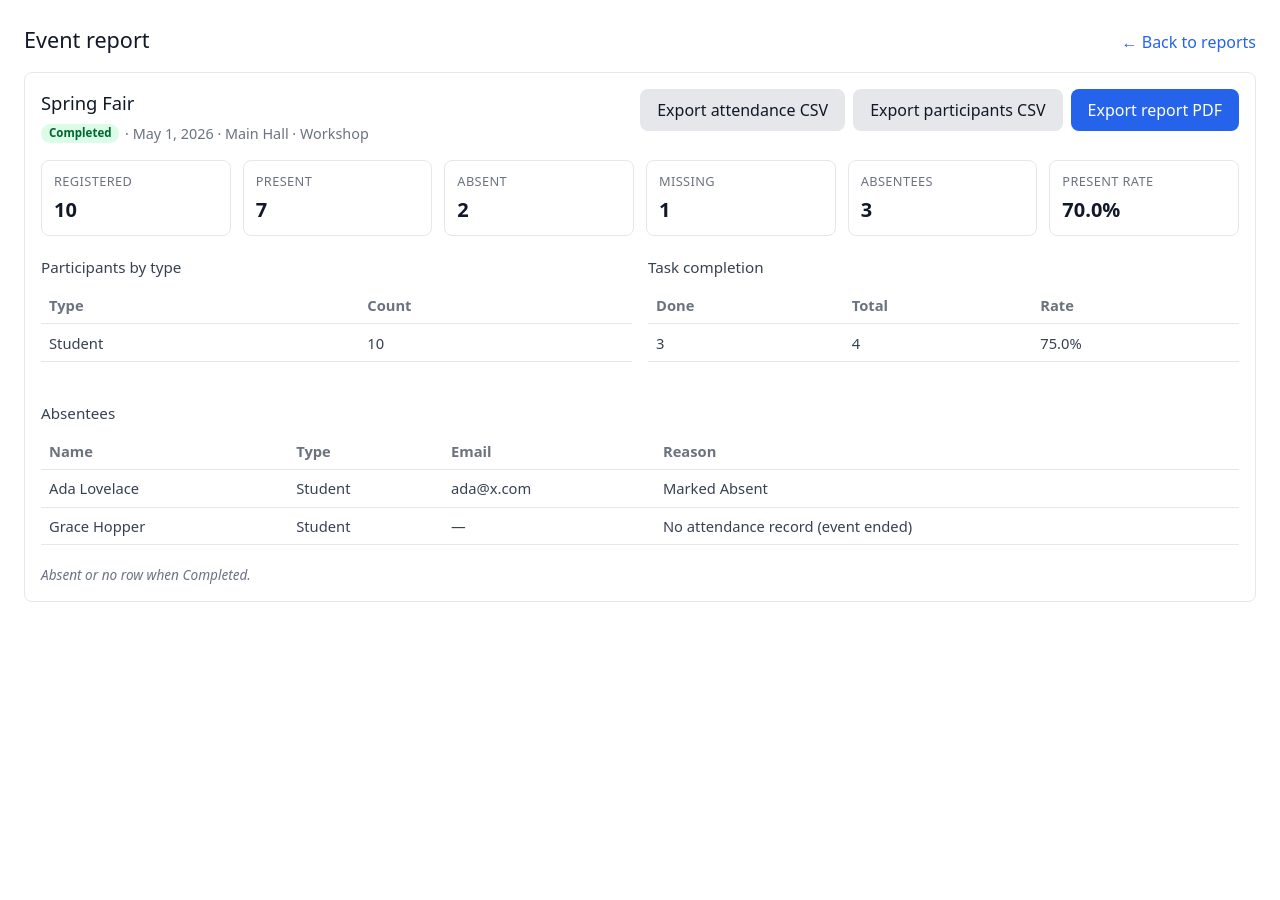
EventReportView › surfaces export failures
What coordinates should you click on to do the following:
click the button with test id "export-report-pdf"
I would click on:
 (1155, 110)
Its box is [1070, 89, 1239, 131].
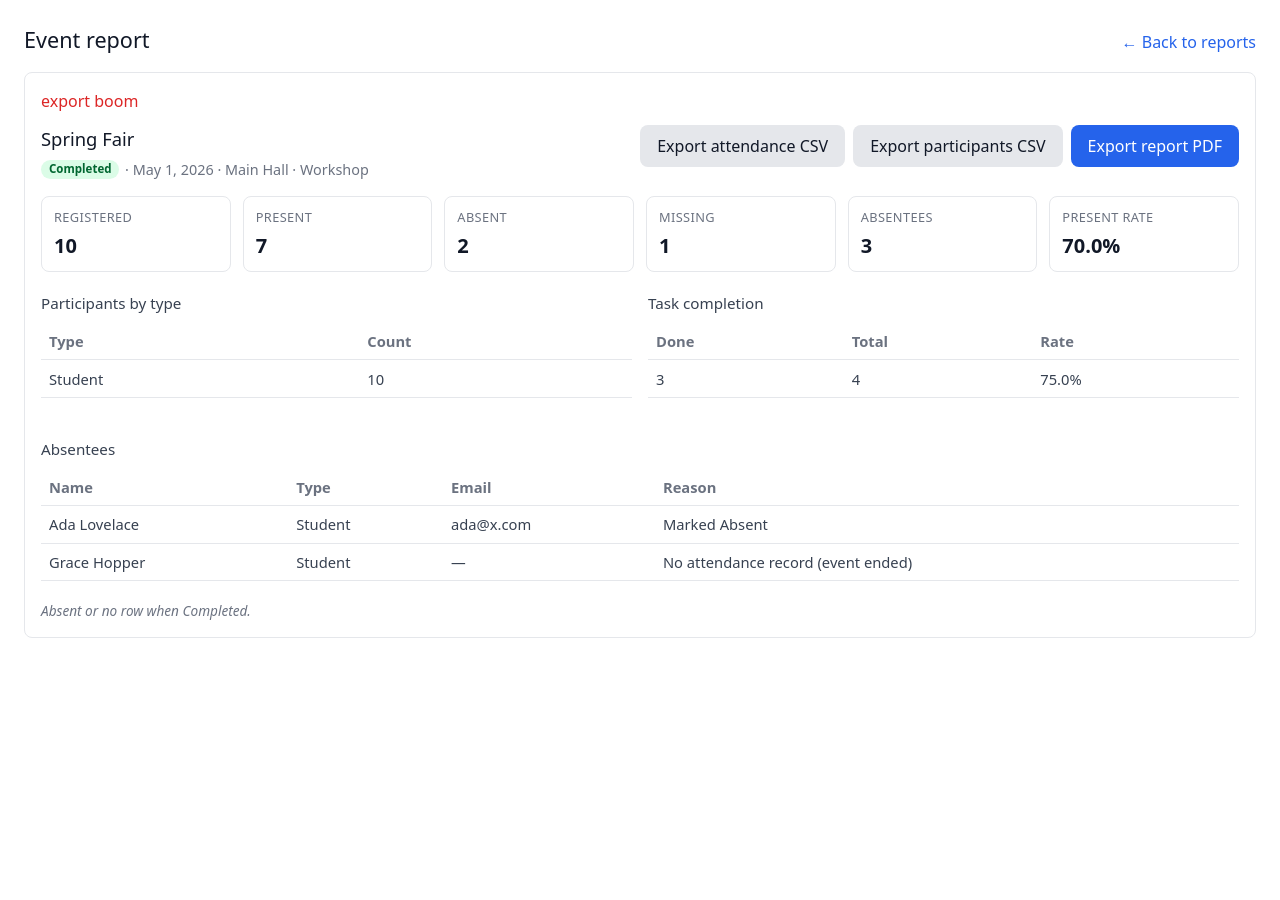
Expected: the message with test id "event-report-error" reads "export boom", [41, 90, 138, 112]
